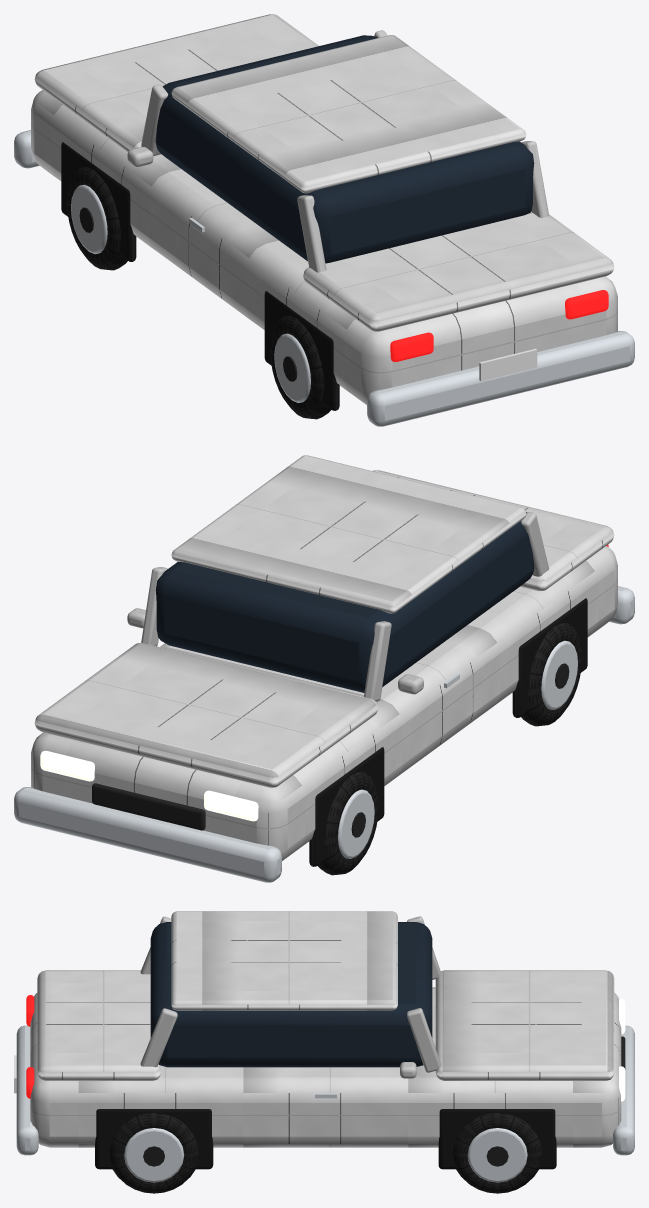
Rendered from car_sedan.glb.
The picture shows the model from 3 angles, top to bottom: view 1: azimuth 30°, elevation 25°; view 2: azimuth 150°, elevation 25°; view 3: azimuth 270°, elevation 25°; orthographic projection. The views are drawn at different scales.
Parts seen in each view (by area): view 1: Body, WheelFL, WheelBL, Taillights; view 2: Body, WheelBL, WheelFL; view 3: Body, WheelBR, WheelFR, Taillights.
Part boxes in pixels (x1=…): Body: x1=14, y1=14, x2=634, y2=426; WheelFL: x1=67, y1=167, x2=127, y2=270; WheelBL: x1=270, y1=315, x2=331, y2=419; Taillights: x1=390, y1=290, x2=608, y2=361; Body: x1=14, y1=455, x2=634, y2=882; WheelBL: x1=521, y1=623, x2=581, y2=726; WheelFL: x1=317, y1=771, x2=378, y2=875; Body: x1=14, y1=911, x2=634, y2=1169; WheelBR: x1=109, y1=1113, x2=198, y2=1193; WheelFR: x1=453, y1=1113, x2=541, y2=1193; Taillights: x1=26, y1=995, x2=34, y2=1098.
Size of the model in its own units: 2.06 by 1.5 by 4.52.
Materials: 9 (2 with a texture image).
